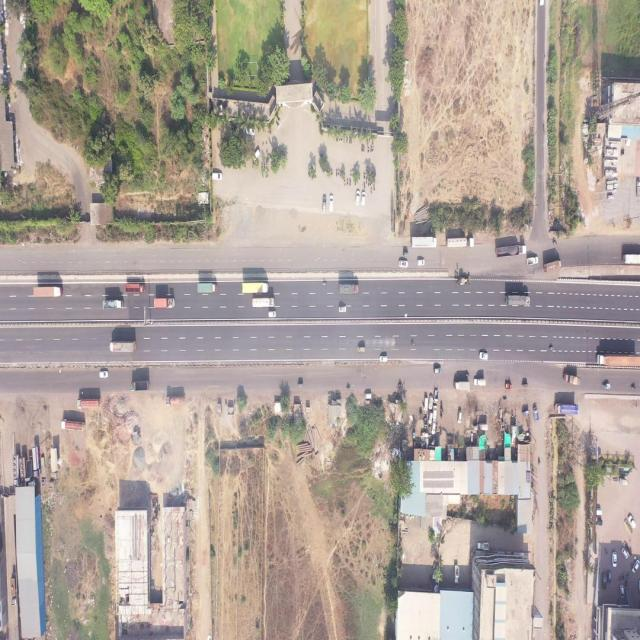3W: (479, 423, 488, 430), (522, 409, 529, 416), (506, 382, 512, 390), (359, 346, 365, 352), (298, 382, 303, 388), (522, 383, 527, 389), (402, 252, 408, 256)
Cars: (627, 513, 636, 531), (631, 560, 640, 573), (601, 572, 607, 589), (322, 194, 327, 213), (212, 172, 222, 181), (247, 126, 256, 136), (329, 194, 334, 211), (612, 551, 617, 568), (479, 352, 488, 361), (254, 148, 260, 161), (355, 190, 360, 205), (622, 547, 628, 559), (362, 190, 366, 207), (457, 411, 462, 424), (268, 310, 276, 318), (432, 419, 436, 435), (399, 261, 408, 268), (596, 518, 603, 527), (417, 259, 425, 266), (424, 397, 428, 411), (429, 396, 433, 410), (620, 584, 624, 598), (99, 372, 108, 378), (380, 355, 387, 362), (607, 571, 611, 583), (339, 306, 346, 312), (434, 367, 441, 373), (596, 509, 602, 515), (365, 394, 372, 399)
LCV: (473, 378, 486, 387), (527, 257, 539, 266), (478, 542, 490, 551), (635, 179, 640, 196), (534, 407, 539, 423), (433, 389, 439, 402), (455, 565, 459, 583)
M2W: (629, 383, 636, 390), (620, 149, 625, 156), (538, 456, 541, 466), (549, 345, 554, 351), (276, 120, 279, 127), (370, 184, 372, 194), (363, 180, 365, 190), (349, 177, 351, 187), (372, 142, 374, 152), (553, 240, 557, 245), (322, 282, 327, 286), (465, 373, 470, 377), (503, 395, 507, 400), (364, 171, 366, 180), (330, 167, 332, 176), (361, 143, 363, 152), (363, 143, 365, 152), (373, 184, 375, 192), (366, 176, 368, 184), (346, 178, 348, 186), (349, 136, 351, 144), (350, 169, 352, 176), (344, 179, 346, 186), (339, 169, 341, 176), (336, 169, 338, 176), (367, 146, 369, 153), (346, 386, 349, 390), (336, 137, 338, 142), (371, 144, 372, 152), (368, 180, 369, 187), (264, 161, 265, 168), (346, 136, 347, 143), (368, 139, 369, 145), (262, 161, 262, 168), (340, 136, 340, 142), (342, 137, 342, 143)
MAV: (596, 354, 640, 367), (496, 245, 526, 258), (411, 236, 437, 249), (446, 237, 474, 248), (34, 287, 63, 297), (62, 419, 84, 431), (32, 446, 40, 478), (78, 398, 100, 409), (13, 454, 20, 485), (166, 395, 185, 406), (10, 578, 16, 606)
Truck: (242, 282, 269, 294), (110, 341, 136, 352), (153, 296, 175, 309), (555, 403, 578, 415), (564, 372, 581, 387), (505, 295, 530, 305), (623, 253, 640, 266), (197, 282, 217, 293), (252, 298, 274, 308), (544, 260, 562, 272), (102, 300, 123, 310), (125, 284, 145, 294), (338, 284, 358, 293), (130, 382, 150, 391), (453, 380, 470, 390), (603, 382, 611, 391)
